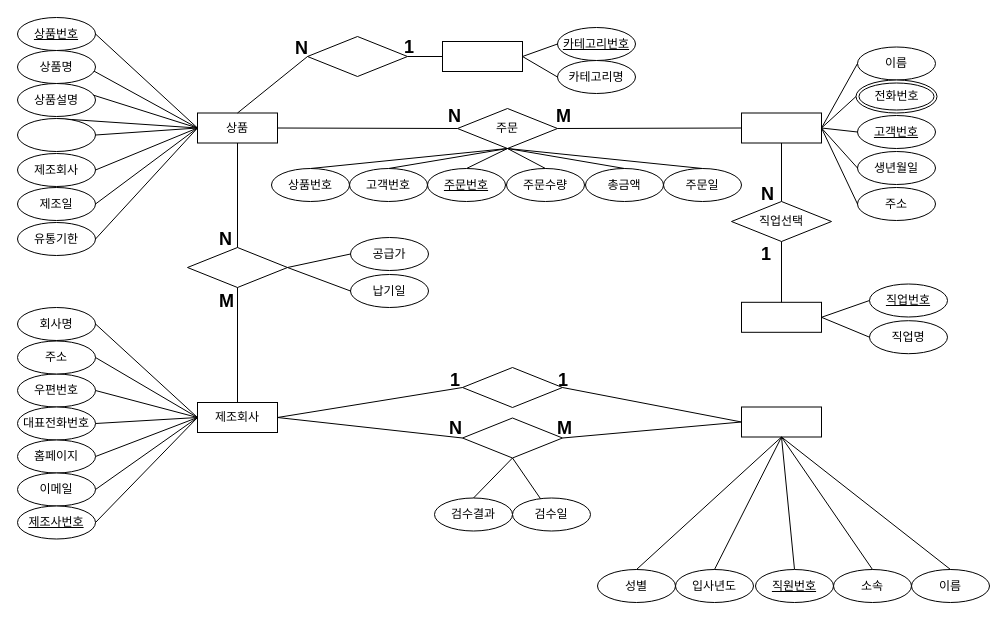
This 1007x620 diagram has some shape labels left out. Here are the shapes that lost their labels. From the top down, the centre of each, then its label:
At [357,56]: "분류".
At [482,56]: "카테고리".
At [56,135]: "판매가격".
At [781,127]: "고객".
At [237,267]: "제조".
At [781,316]: "직업".
At [512,387]: "담당".
At [512,437]: "검수".
At [781,421]: "직원".
